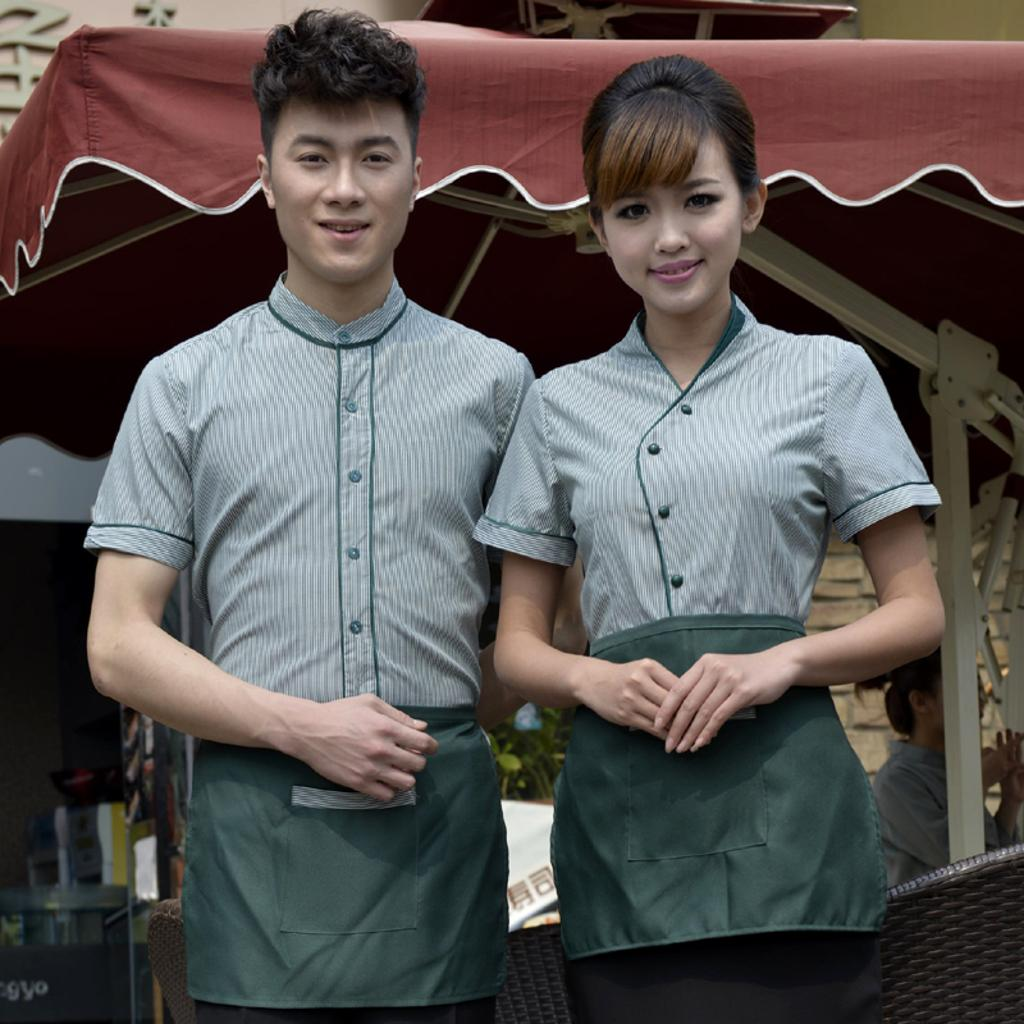face: (598, 108, 742, 306), (270, 74, 408, 268)
